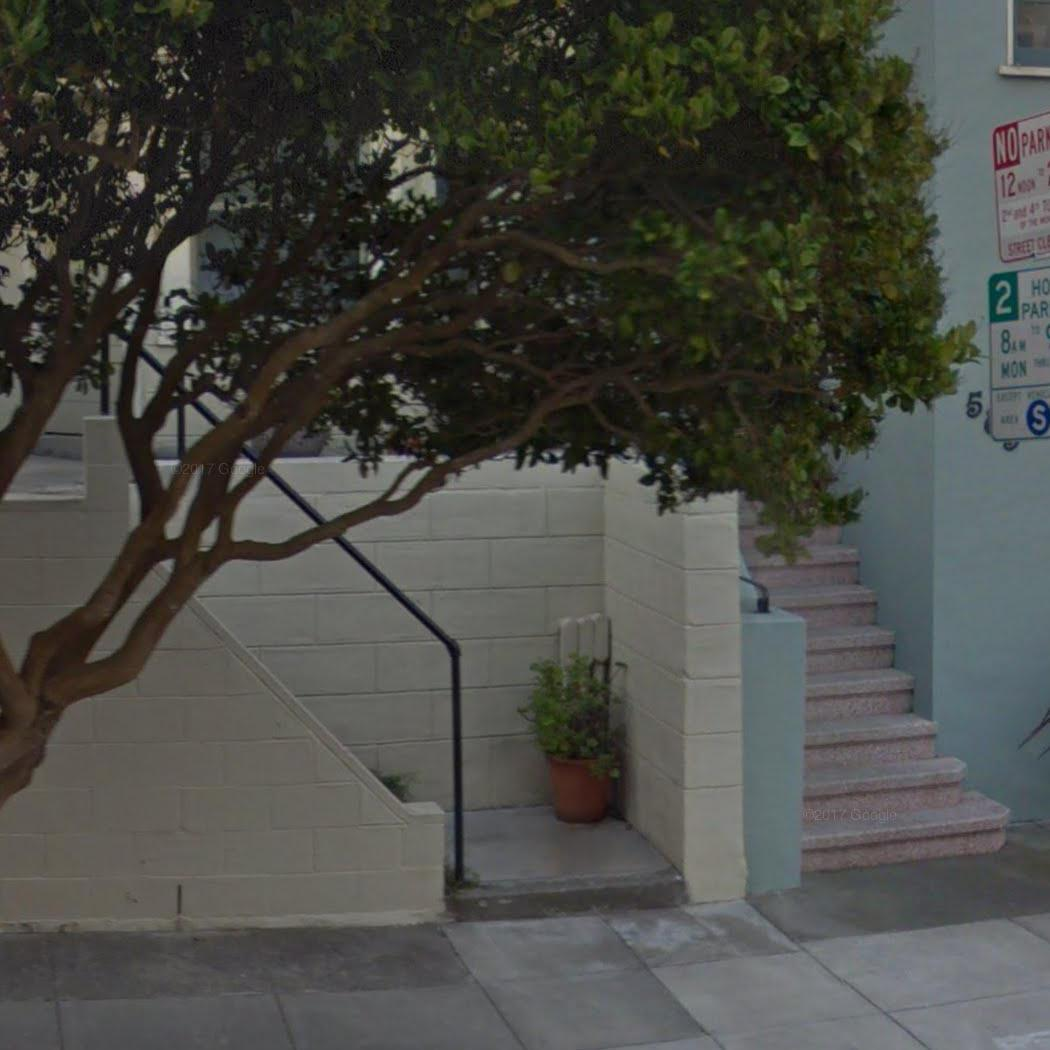2 Hour Parking: (981, 254, 1050, 447)
No Parking: (987, 104, 1050, 271)
